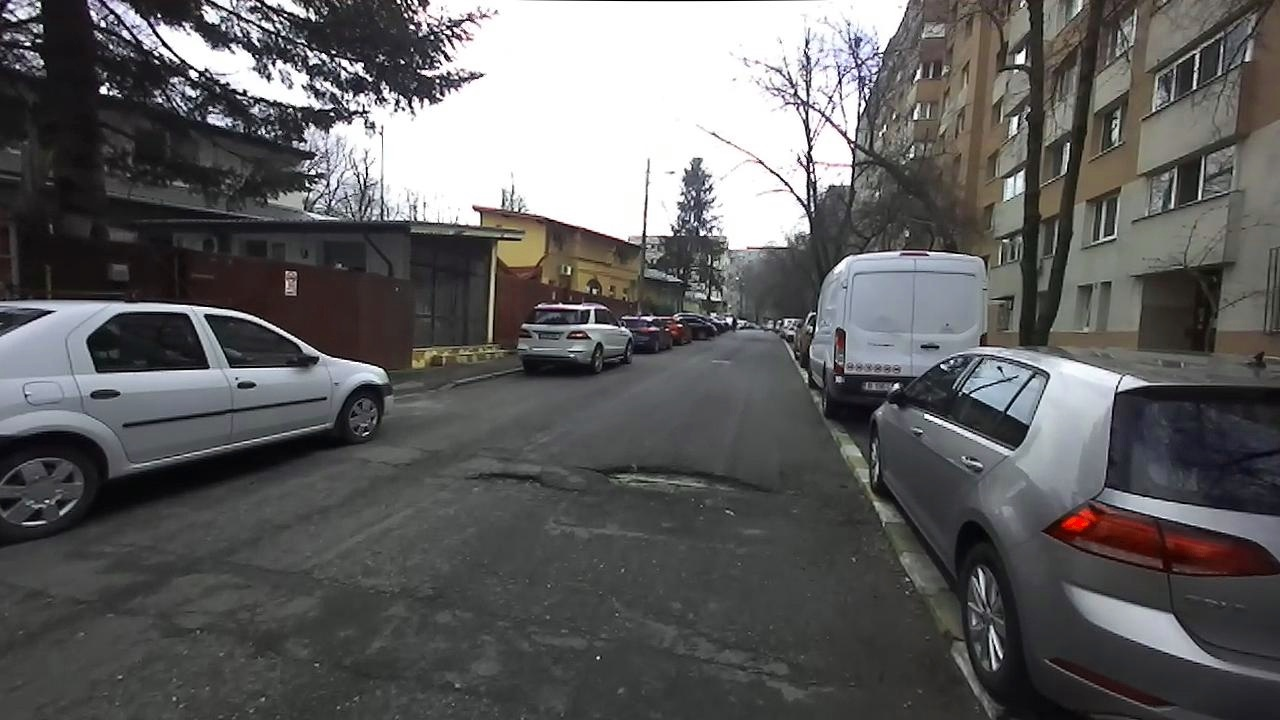pothole: (585, 459, 776, 498), (462, 466, 572, 493)
